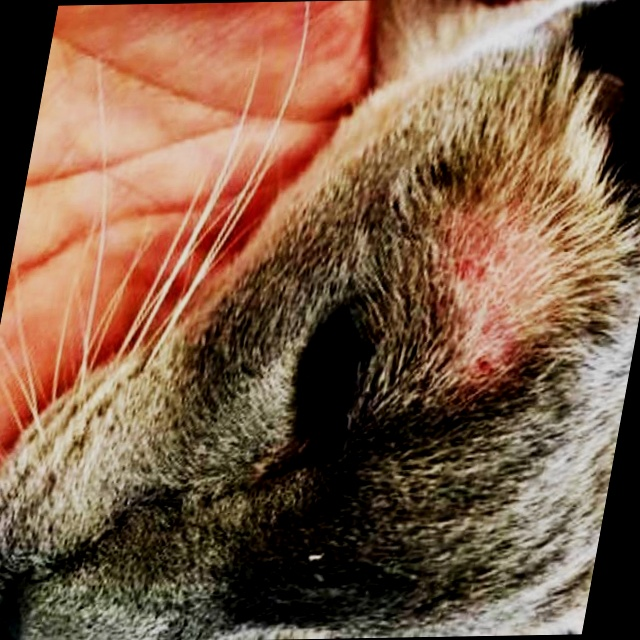ringworm: (448, 229, 561, 370)
